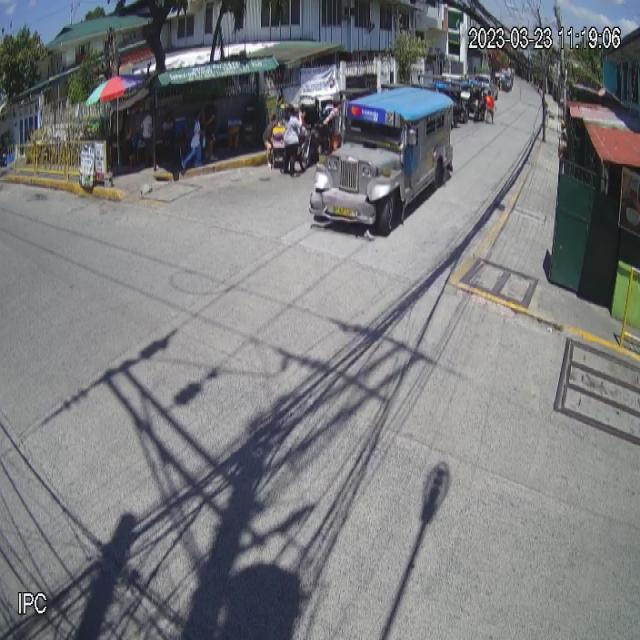Jeep: (308, 86, 455, 236)
